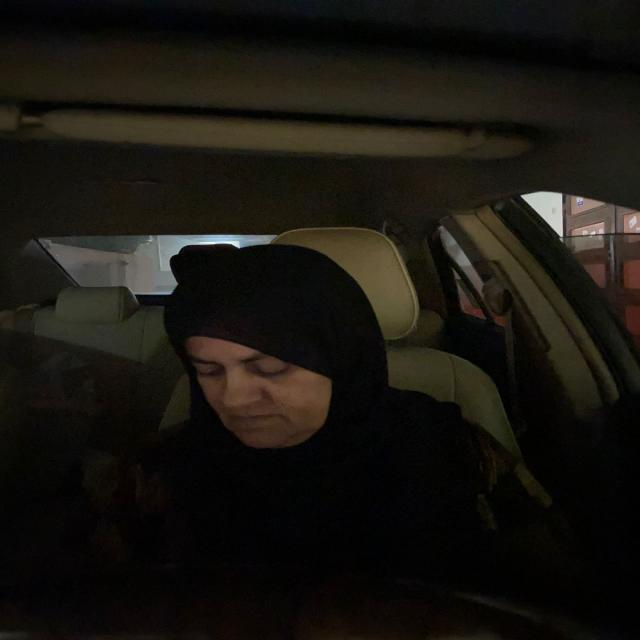drowsy: (148, 252, 382, 452)
